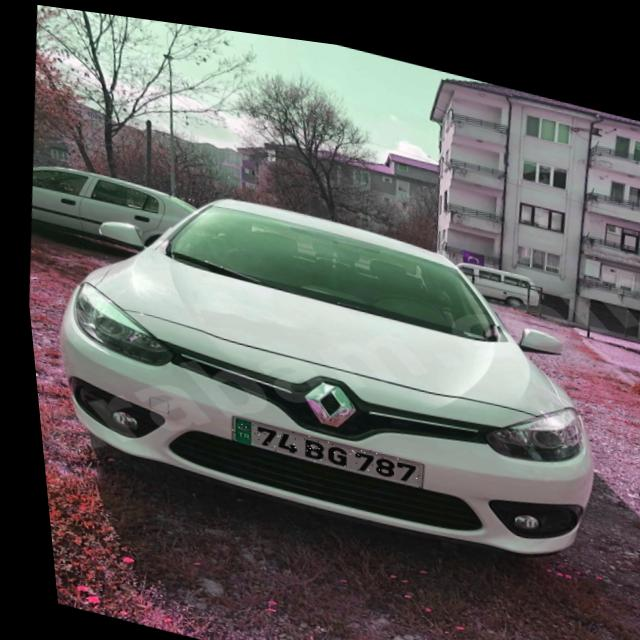license_plate: (222, 410, 417, 479)
